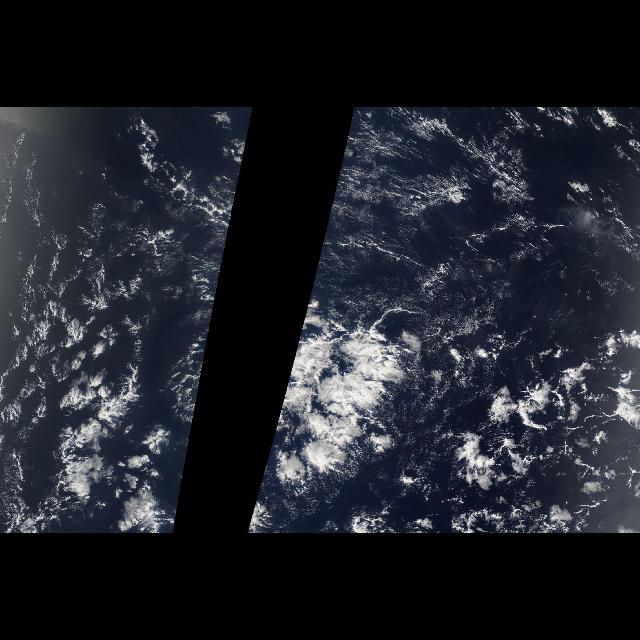Gravel: (458, 337, 638, 529), (9, 219, 141, 419)
Sugar: (328, 110, 630, 320), (2, 116, 216, 312)
